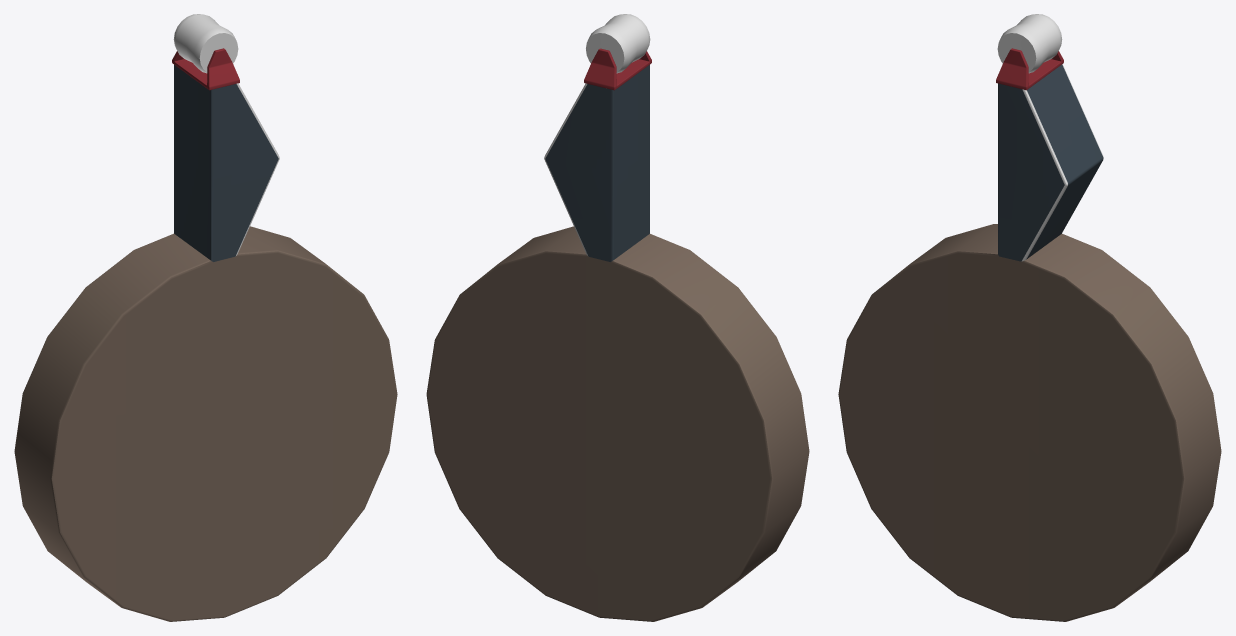
Rendered from Levone_L3.fbx.
The picture shows the model from 3 angles, left to right: view 1: azimuth 30°, elevation 25°; view 2: azimuth 150°, elevation 25°; view 3: azimuth 330°, elevation 25°; orthographic projection.
Parts seen in each view (by area): view 1: polySurface267; view 2: polySurface267; view 3: polySurface267.
Part boxes in pixels (left/top/right/bottom): polySurface267: left=14, top=14, right=397, bottom=621; polySurface267: left=426, top=14, right=809, bottom=621; polySurface267: left=838, top=14, right=1221, bottom=621.
Size of the model in its own units: 23.36 by 37.51 by 4.44.
